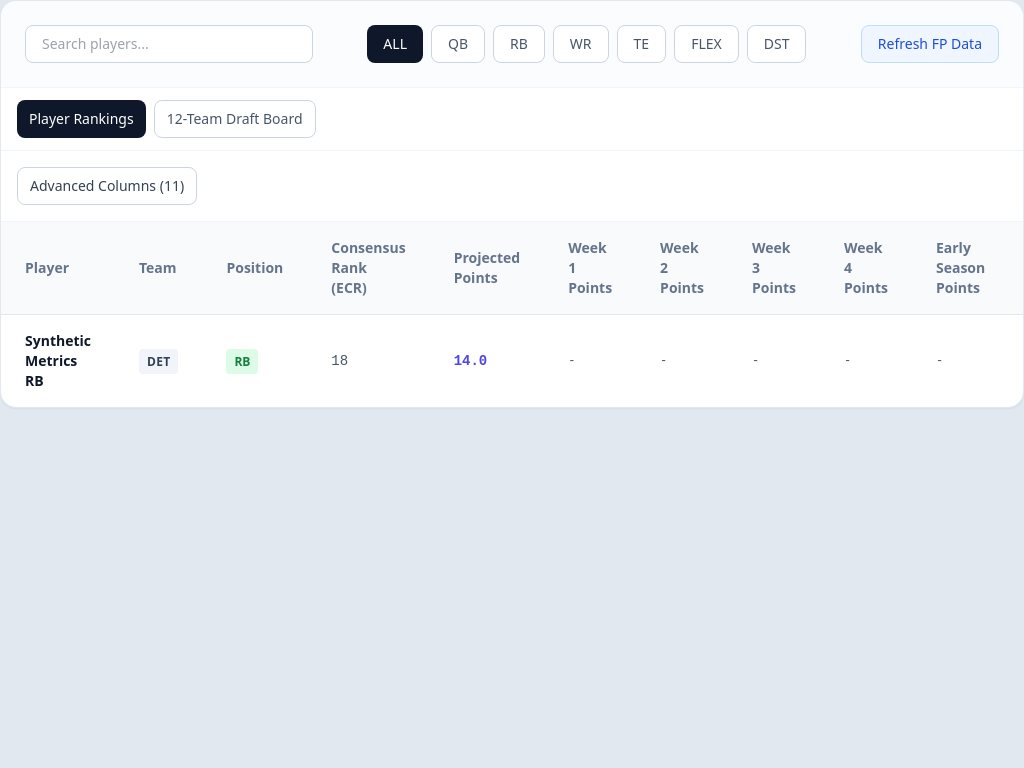
DashboardClient › keeps core draft-model metrics always visible and exposes others in the dropdown
Expected: the column heading with test id "advanced-header-week_1_points" is shown, [544, 222, 636, 314]
Expected: the column heading with test id "advanced-header-week_2_points" is shown, [636, 222, 728, 314]
Click the button with test id "advanced-columns-toggle".
click(107, 186)  # box [17, 167, 197, 205]
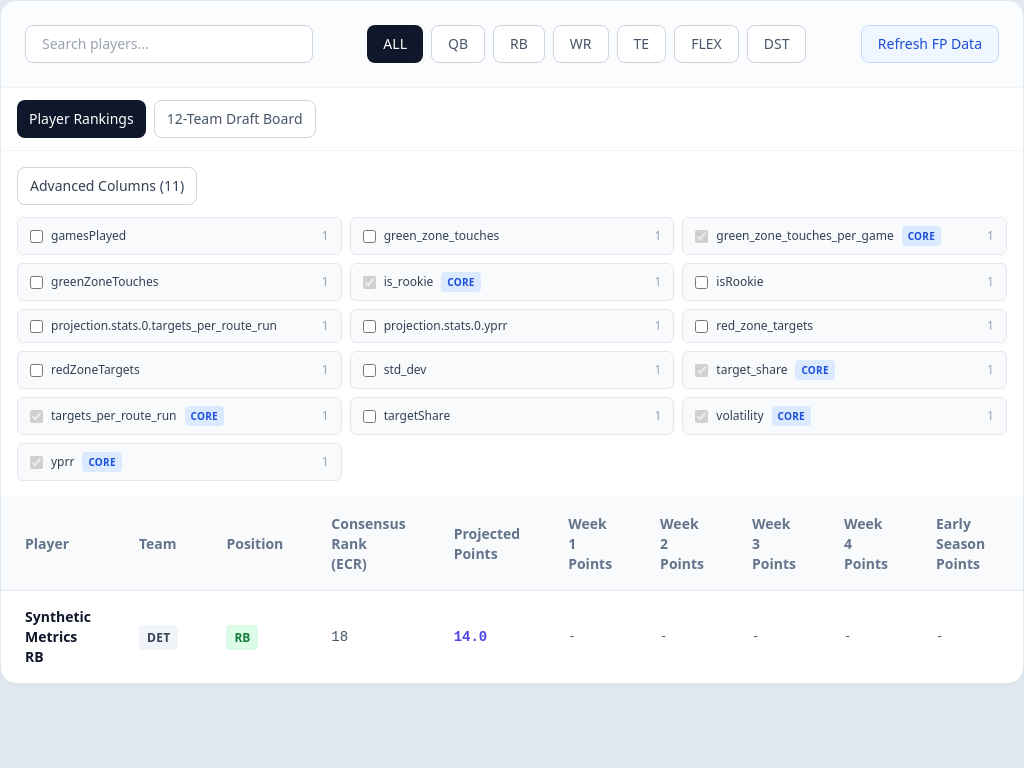
Now the text "red_zone_targets" is shown, box [716, 318, 813, 334]
Now the text "green_zone_touches" is shown, box [384, 228, 499, 244]
